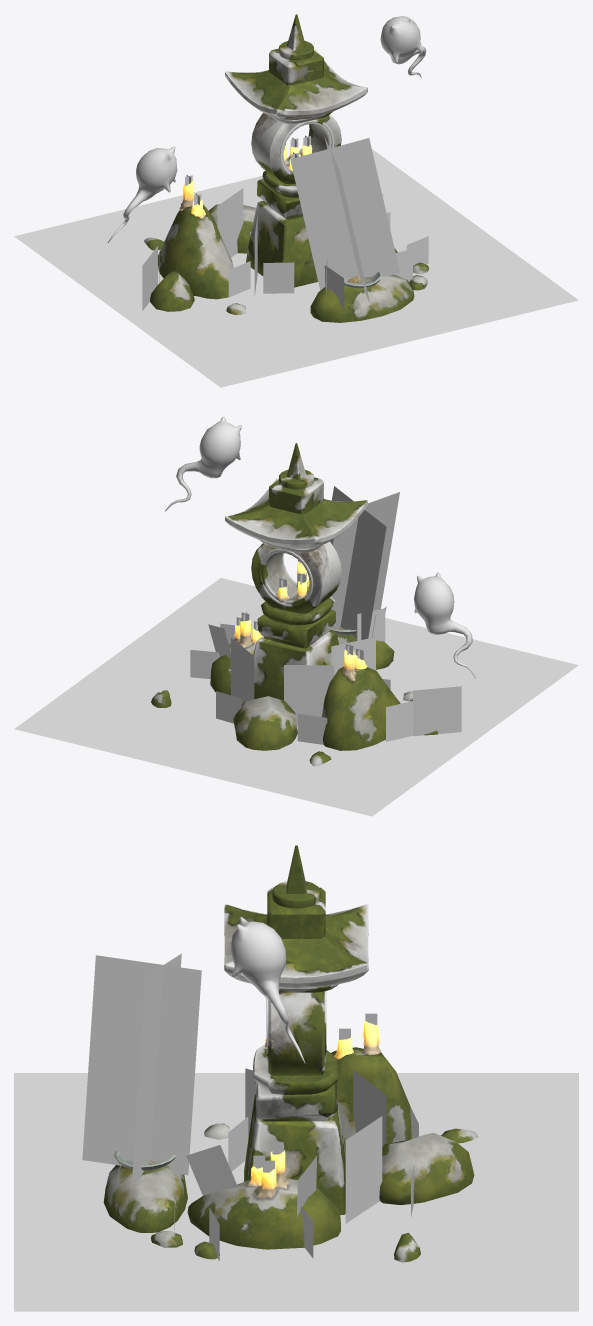
The model's file is Sculpt.fbx.
The picture shows the model from 3 angles, top to bottom: view 1: azimuth 30°, elevation 25°; view 2: azimuth 150°, elevation 25°; view 3: azimuth 270°, elevation 25°; orthographic projection. The views are drawn at different scales.
Parts seen in each view (by area): view 1: Plane, Piece_1, Plane.001, Rocks, Grass, Piece_2, Plane.003, Plane.002, Candles; view 2: Plane, Piece_1, Grass, Rocks, Plane.001, Piece_2, Plane.003, Plane.002, Candles; view 3: Plane, Rocks, Plane.001, Piece_1, Grass, Piece_2, Plane.002, Candles, Light.
Boxes of the visible parts, x1,y1,x2,y2 form: Plane: (14, 149, 578, 387); Piece_1: (225, 41, 367, 287); Plane.001: (290, 137, 399, 303); Rocks: (144, 204, 428, 322); Grass: (142, 188, 428, 310); Piece_2: (262, 14, 334, 197); Plane.003: (107, 146, 177, 242); Plane.002: (380, 16, 426, 77); Candles: (179, 144, 312, 218); Plane: (14, 578, 578, 816); Piece_1: (225, 469, 367, 700); Grass: (190, 606, 461, 744); Rocks: (151, 634, 437, 766); Plane.001: (330, 486, 399, 639); Piece_2: (258, 443, 334, 625); Plane.003: (414, 572, 475, 678); Plane.002: (165, 416, 241, 511); Candles: (234, 561, 367, 681); Plane: (14, 1073, 578, 1311); Rocks: (103, 1047, 478, 1262); Plane.001: (82, 953, 201, 1181); Piece_1: (224, 881, 368, 1214); Grass: (174, 1045, 418, 1260); Piece_2: (253, 845, 340, 1094); Plane.002: (230, 916, 305, 1063); Candles: (245, 1020, 380, 1199); Light: (253, 1013, 377, 1172).
Bounding box in the file's own units: 609 × 412 × 600.
